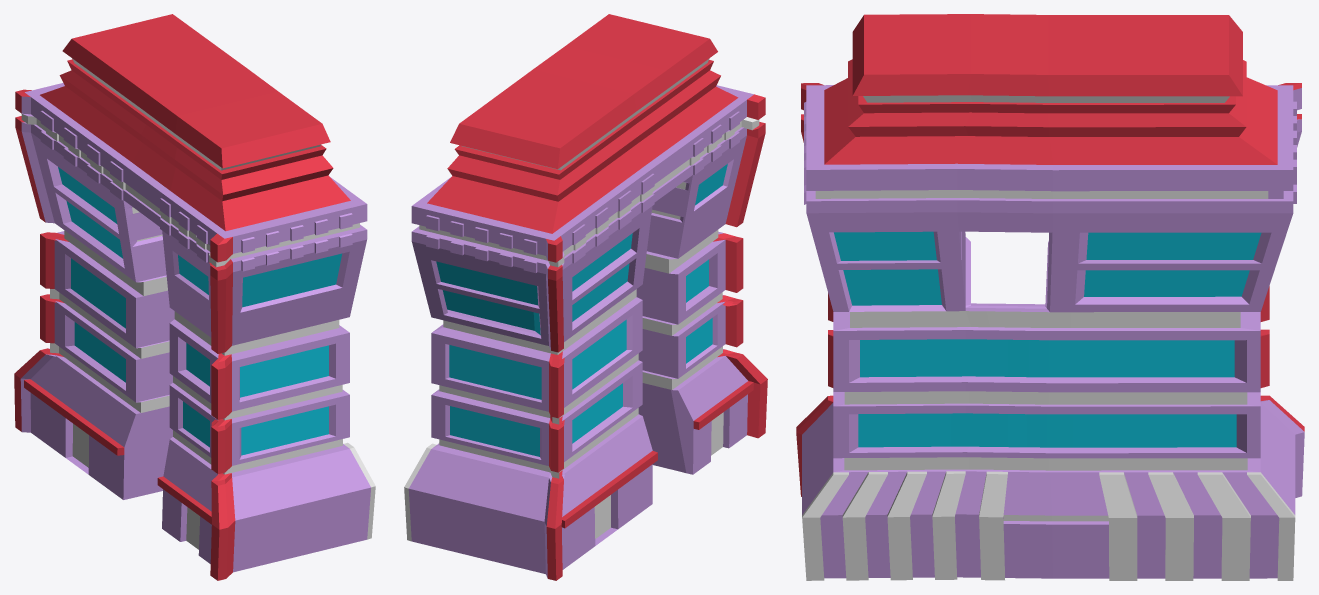
Rendered from FBX_SD_sBridgeBlock.fbx.
The picture shows the model from 3 angles, left to right: view 1: azimuth 30°, elevation 25°; view 2: azimuth 150°, elevation 25°; view 3: azimuth 270°, elevation 25°; orthographic projection. The views are drawn at different scales.
Visible parts, largest first — view 1: FBX_SD_sBridgeBlock; view 2: FBX_SD_sBridgeBlock; view 3: FBX_SD_sBridgeBlock.
Boxes of the visible parts, box(x1,y1,x2,y2) form: FBX_SD_sBridgeBlock: box(14, 14, 375, 580); FBX_SD_sBridgeBlock: box(404, 14, 767, 580); FBX_SD_sBridgeBlock: box(796, 14, 1304, 580).
Bounding box in the file's own units: 1174 × 2868 × 2671.
